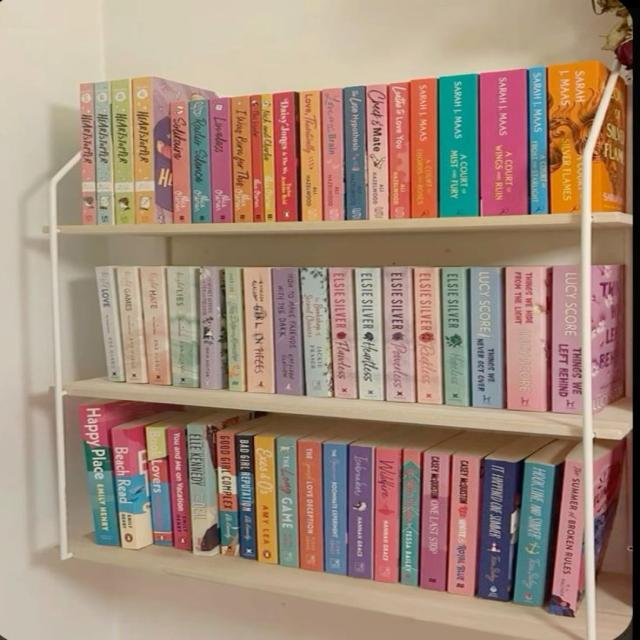book: (548, 60, 610, 213), (480, 69, 529, 216), (476, 455, 523, 601), (512, 462, 557, 606), (506, 266, 549, 411), (438, 73, 478, 216), (80, 404, 120, 547), (446, 453, 482, 596), (592, 78, 628, 211), (553, 457, 583, 616), (470, 267, 503, 409), (419, 449, 451, 591), (554, 265, 584, 414), (383, 267, 414, 402), (413, 267, 443, 404), (372, 446, 402, 582), (441, 267, 470, 406), (301, 269, 332, 397), (409, 78, 437, 218), (243, 267, 273, 393), (168, 267, 199, 388), (355, 268, 383, 400), (273, 268, 302, 395), (140, 268, 170, 385), (348, 444, 374, 579), (329, 269, 356, 398), (110, 79, 134, 224), (117, 266, 146, 383), (273, 92, 299, 221), (297, 439, 322, 571), (323, 442, 348, 574), (188, 424, 213, 555), (112, 429, 139, 549), (343, 86, 367, 219), (399, 449, 422, 586), (299, 90, 323, 220), (254, 434, 278, 564), (97, 267, 124, 382), (146, 427, 172, 545), (200, 267, 225, 389), (133, 78, 154, 223), (321, 88, 344, 220), (168, 429, 193, 549), (366, 84, 388, 219), (94, 81, 114, 224), (389, 82, 410, 218), (529, 67, 548, 214), (190, 101, 212, 222), (230, 96, 251, 222), (209, 98, 230, 222), (277, 437, 297, 567), (236, 432, 256, 559), (224, 267, 244, 391), (220, 433, 240, 555), (80, 83, 97, 224), (172, 102, 190, 223), (261, 94, 275, 224), (250, 95, 262, 221)
